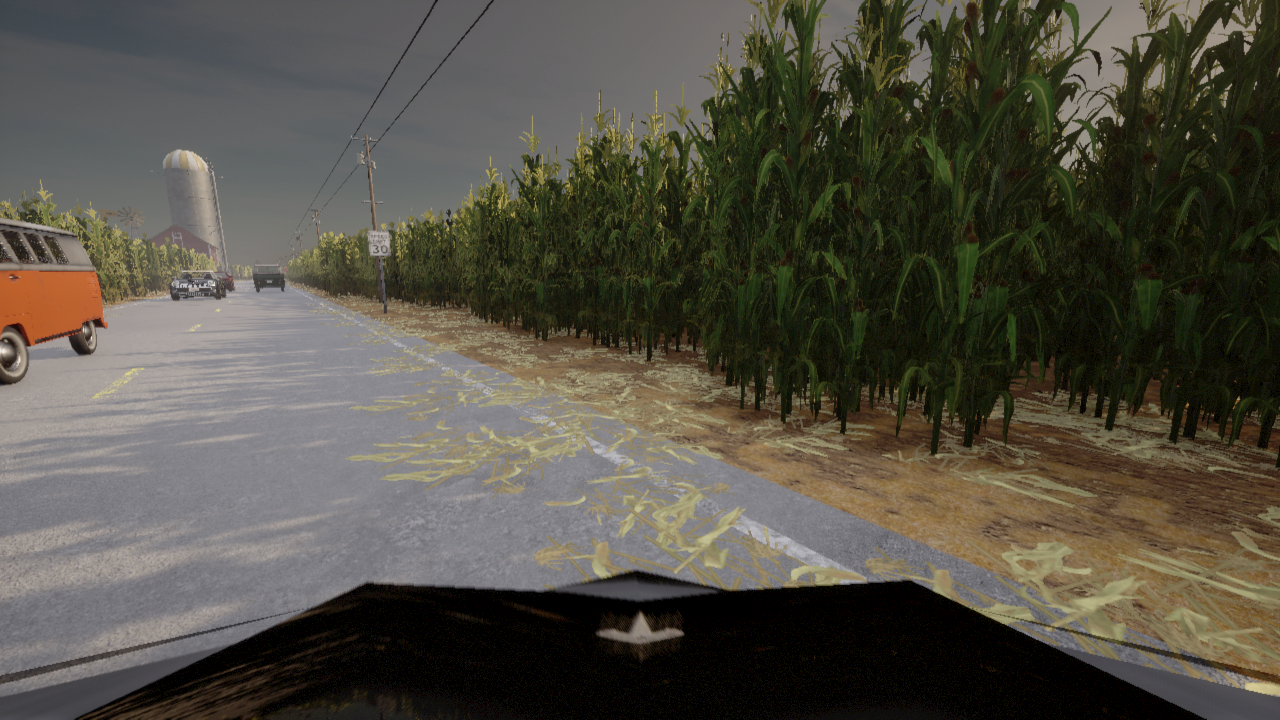cyclist: (0, 569, 1279, 719), (170, 270, 225, 299), (252, 264, 284, 292), (214, 271, 234, 291)
